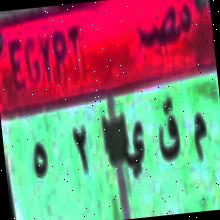2: (66, 120, 96, 182)
5: (25, 135, 57, 192)
meem: (184, 106, 212, 173)
qaaf: (150, 94, 186, 174)
yaa: (118, 114, 151, 184)
